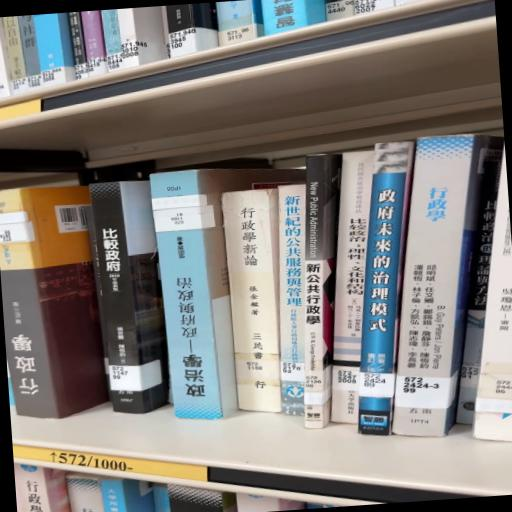reverse: (151, 170, 305, 420), (1, 187, 110, 419)
